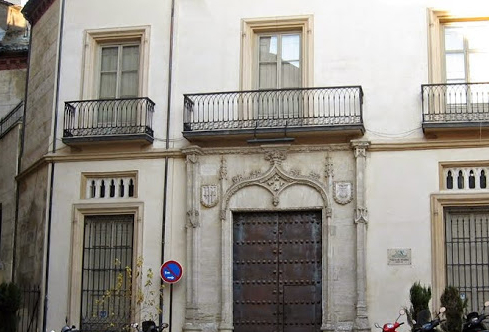arco-conopial: (218, 163, 332, 208)
